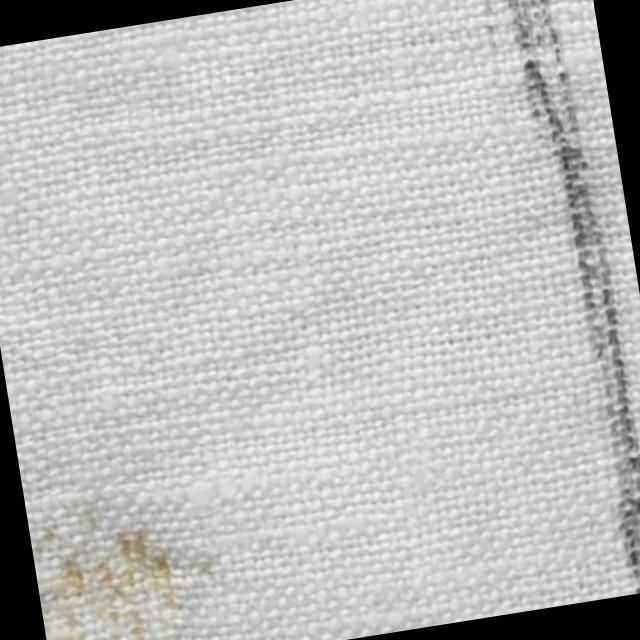Stain: (472, 0, 640, 604), (29, 501, 233, 640)
